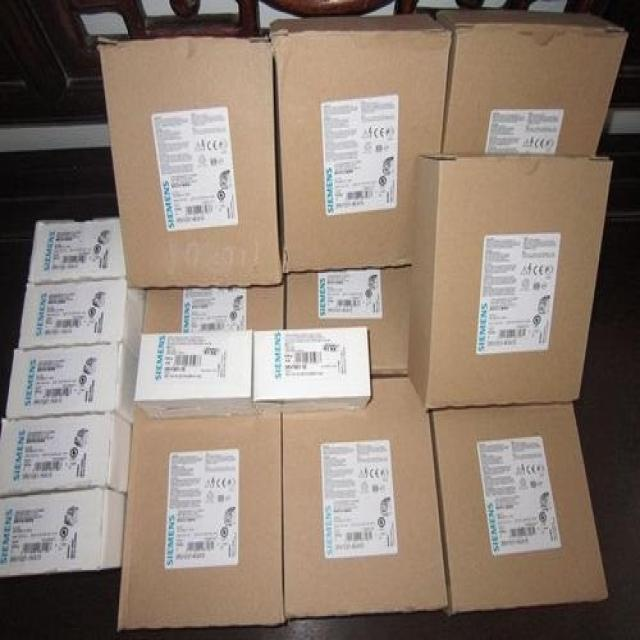Carton: (0, 29, 626, 573), (116, 411, 445, 623), (434, 401, 609, 608)
